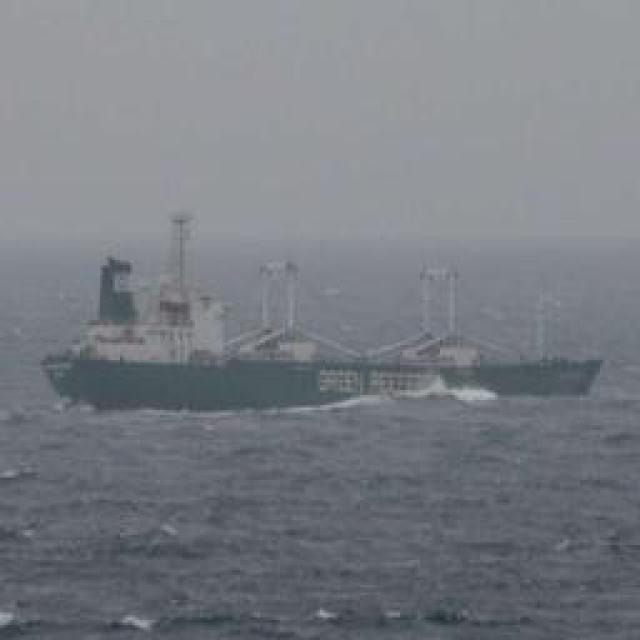Ship: (49, 247, 599, 407)
